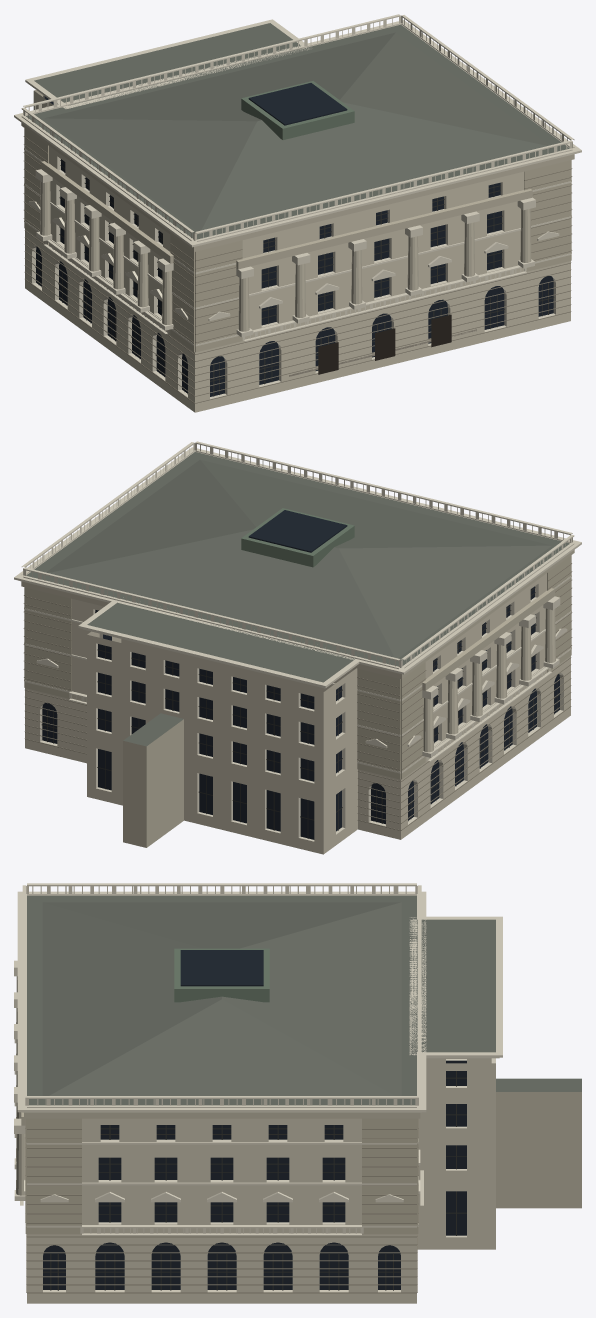
File: pulaski-courthouse-1914.glb
The picture shows the model from 3 angles, top to bottom: view 1: azimuth 30°, elevation 25°; view 2: azimuth 150°, elevation 25°; view 3: azimuth 270°, elevation 25°; orthographic projection. The views are drawn at different scales.
Visible parts, largest first — view 1: pulaski_roof, pulaski_stone, pulaski_trim, pulaski_glass, pulaski_rust, pulaski_joint, pulaski_stone2, pulaski_sash, pulaski_copper, pulaski_door; view 2: pulaski_roof, pulaski_stone, pulaski_trim, pulaski_glass, pulaski_rust, pulaski_stone2, pulaski_joint, pulaski_sash, pulaski_copper; view 3: pulaski_roof, pulaski_stone, pulaski_trim, pulaski_glass, pulaski_stone2, pulaski_rust, pulaski_joint, pulaski_sash, pulaski_copper.
Part boxes in pixels (box(x1,y1,x2,y2)): pulaski_roof: box(26, 23, 569, 239); pulaski_stone: box(25, 90, 570, 412); pulaski_trim: box(14, 14, 581, 399); pulaski_glass: box(36, 83, 553, 396); pulaski_rust: box(24, 128, 571, 352); pulaski_joint: box(23, 136, 572, 403); pulaski_stone2: box(21, 123, 574, 269); pulaski_sash: box(35, 160, 554, 396); pulaski_copper: box(241, 81, 354, 139); pulaski_door: box(318, 314, 451, 374); pulaski_roof: box(26, 452, 569, 746); pulaski_stone: box(25, 573, 570, 854); pulaski_trim: box(14, 441, 581, 841); pulaski_glass: box(42, 510, 559, 839); pulaski_rust: box(24, 555, 571, 779); pulaski_stone2: box(21, 550, 574, 847); pulaski_joint: box(23, 563, 572, 830); pulaski_sash: box(41, 587, 560, 838); pulaski_copper: box(241, 508, 354, 567); pulaski_roof: box(27, 895, 581, 1105); pulaski_stone: box(16, 976, 495, 1303); pulaski_trim: box(14, 883, 502, 1292); pulaski_glass: box(43, 950, 466, 1289); pulaski_stone2: box(21, 1092, 581, 1208); pulaski_rust: box(25, 1118, 418, 1234); pulaski_joint: box(25, 1119, 418, 1293); pulaski_sash: box(43, 1071, 466, 1290); pulaski_copper: box(174, 948, 269, 1002).
Size of the model in its own units: 50.16 by 24.55 by 54.76.
